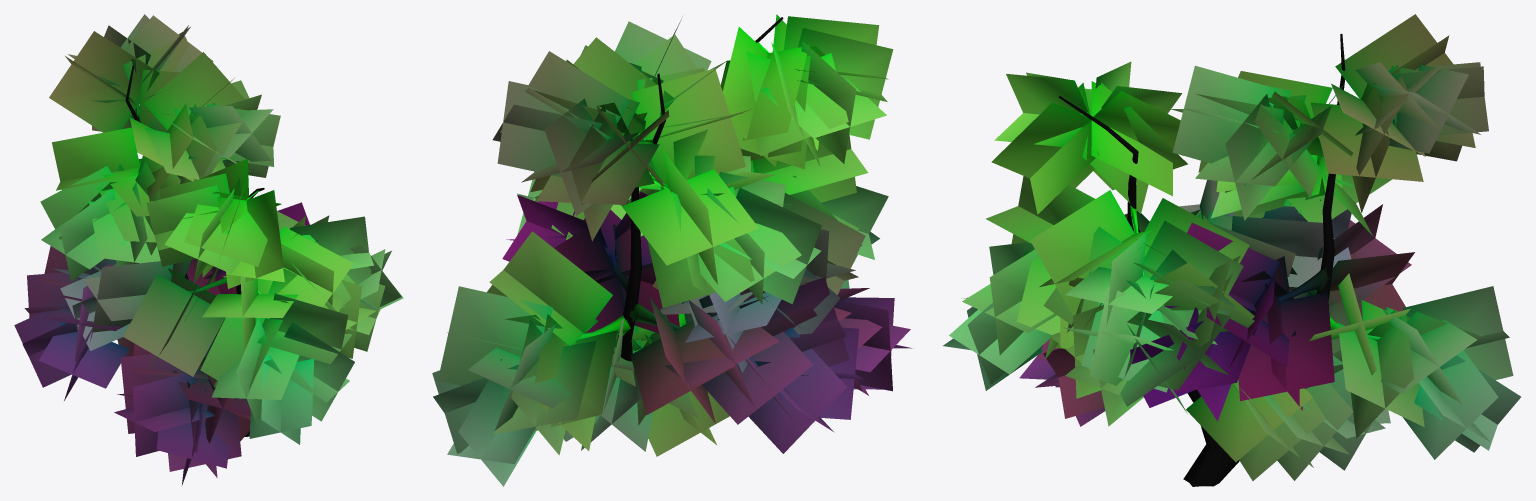
File: M_P14_Tree_10.fbx
3 renders of one model, left to right at view 1: azimuth 30°, elevation 25°; view 2: azimuth 150°, elevation 25°; view 3: azimuth 270°, elevation 25°, orthographic. The views are drawn at different scales.
Parts seen in each view (by area): view 1: Tree_10; view 2: Tree_10; view 3: Tree_10.
Boxes of the visible parts, x1,y1,x2,y2 form: Tree_10: (14, 14, 403, 486); Tree_10: (432, 14, 913, 486); Tree_10: (943, 14, 1520, 486).
Bounding box in the file's own units: 429 × 456 × 557.
